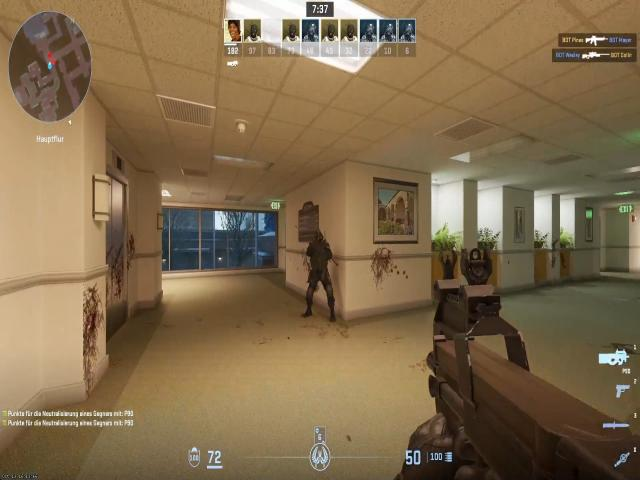CT: (306, 227, 331, 282)
CT-Head: (310, 226, 326, 249)
